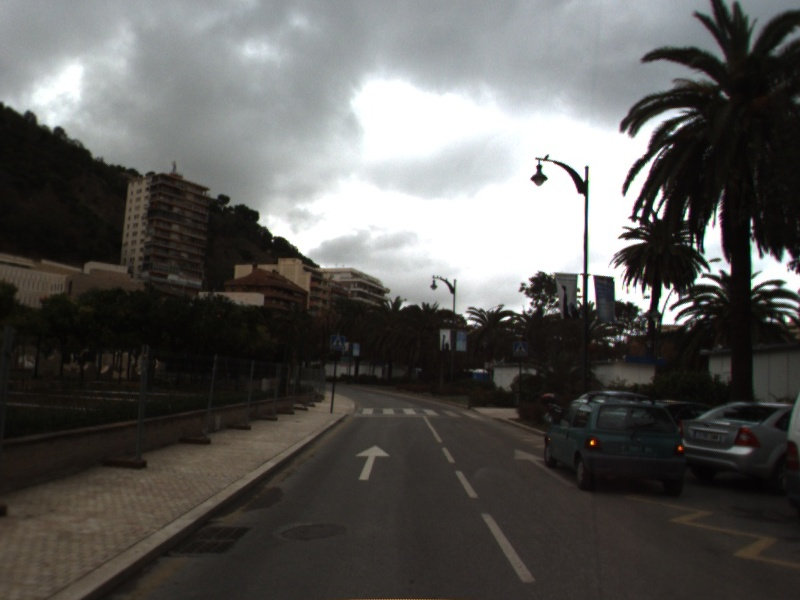STRAIGHT: (511, 446, 579, 488), (353, 443, 393, 482)
